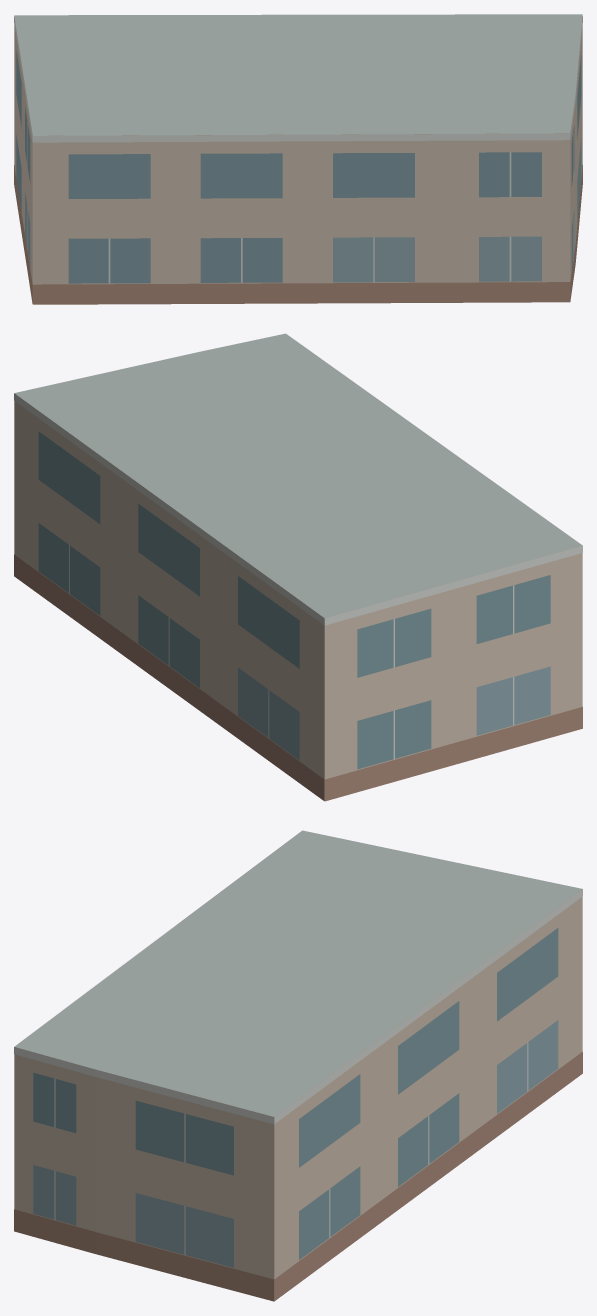
File: survey-upis-32650448.glb
3 views of the same model, one above another, from view 1: azimuth 30°, elevation 25°; view 2: azimuth 150°, elevation 25°; view 3: azimuth 270°, elevation 25° (orthographic). The views are drawn at different scales.
Visible parts, largest first — view 1: survey-upis-32650448.tmp; view 2: survey-upis-32650448.tmp; view 3: survey-upis-32650448.tmp.
Boxes of the visible parts, x1,y1,x2,y2 form: survey-upis-32650448.tmp: (14,14,582,304); survey-upis-32650448.tmp: (14,333,582,801); survey-upis-32650448.tmp: (14,830,582,1301).
Size of the model in its own units: 20.32 by 6.1 by 17.04.
